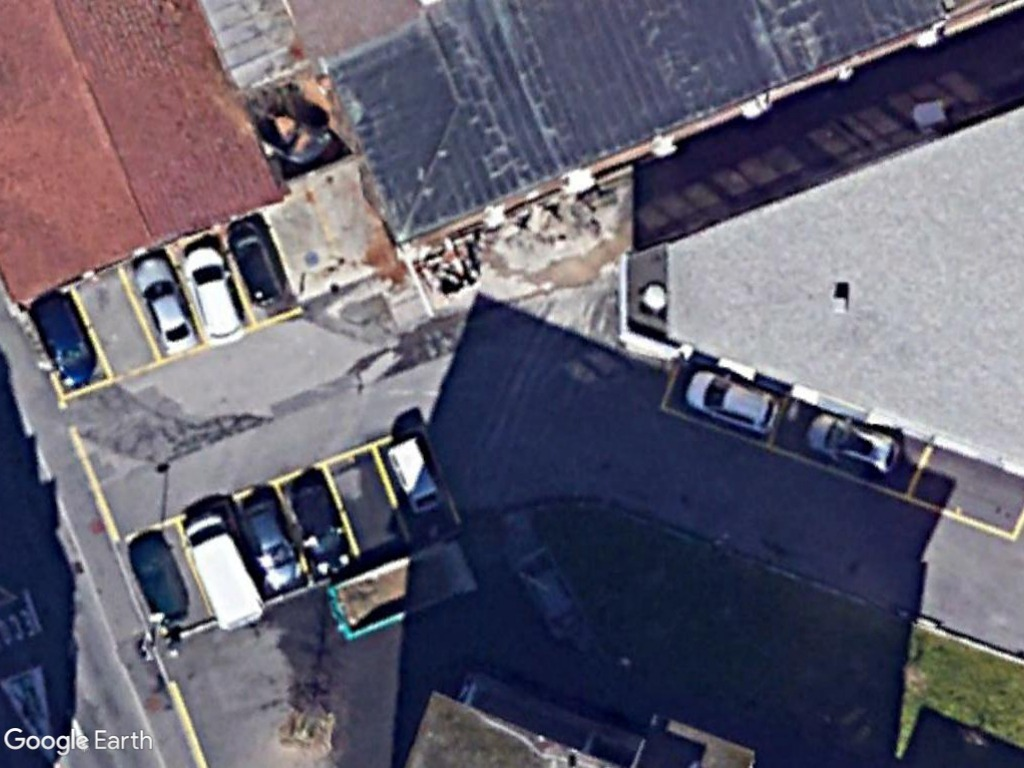car: (282, 476, 359, 579), (800, 410, 906, 479), (131, 256, 201, 360), (240, 495, 310, 596), (683, 367, 782, 436), (30, 296, 97, 391), (184, 241, 245, 342), (223, 216, 287, 302)
van: (181, 513, 269, 635)
